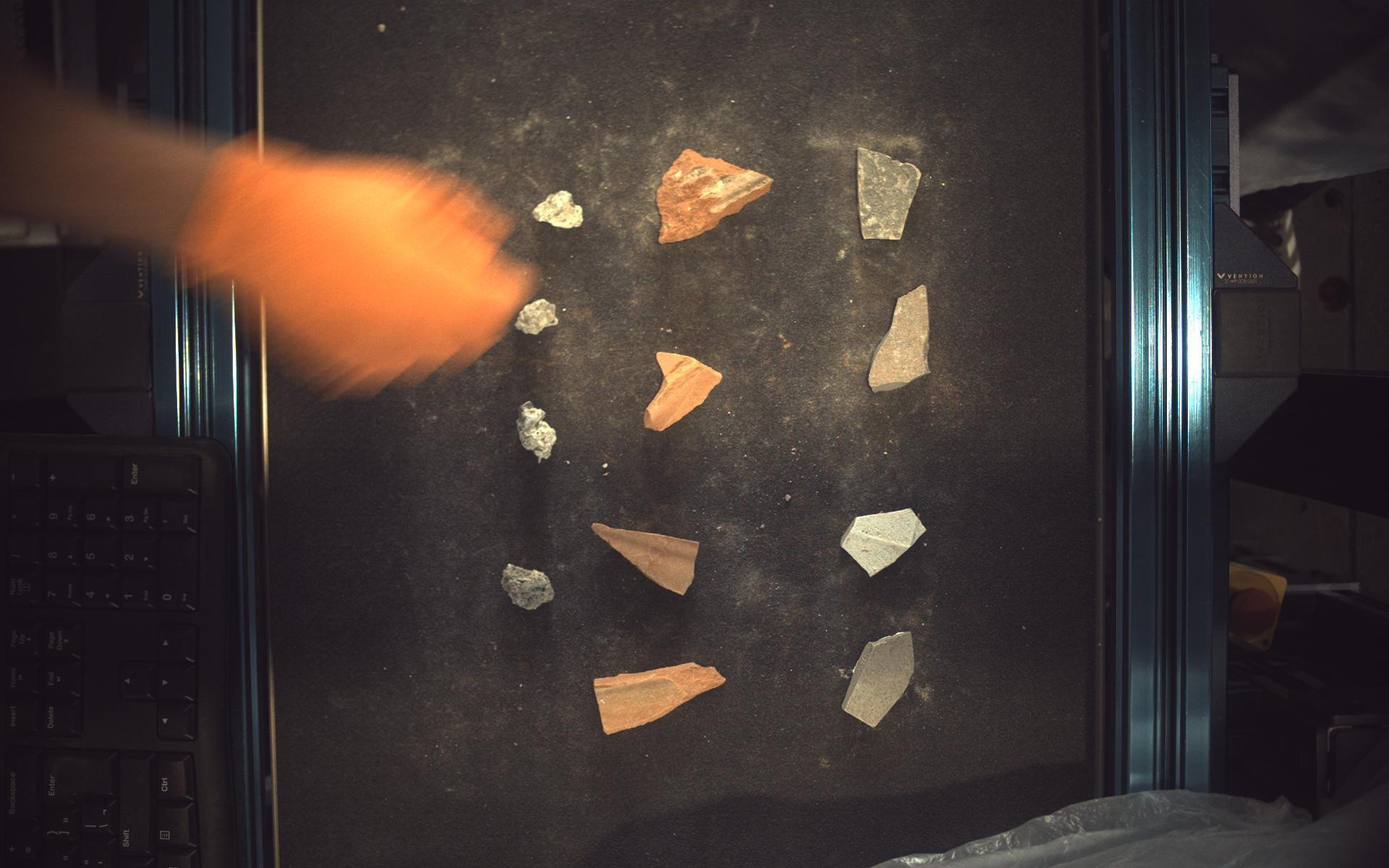brick: (658, 148, 773, 242), (595, 663, 726, 736), (592, 524, 700, 595), (645, 352, 723, 432)
concrete: (502, 564, 555, 611), (517, 401, 557, 461), (533, 190, 584, 228), (515, 298, 559, 335)
tile: (844, 633, 917, 728), (870, 285, 931, 392), (859, 146, 922, 239), (843, 509, 927, 577)
